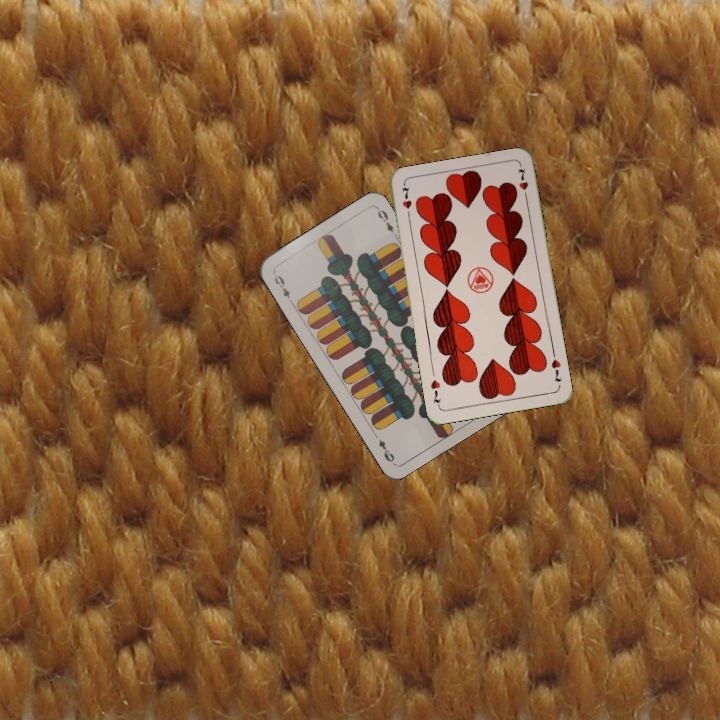E9: (269, 269, 293, 301)
H7: (547, 347, 564, 385), (398, 182, 414, 222)
